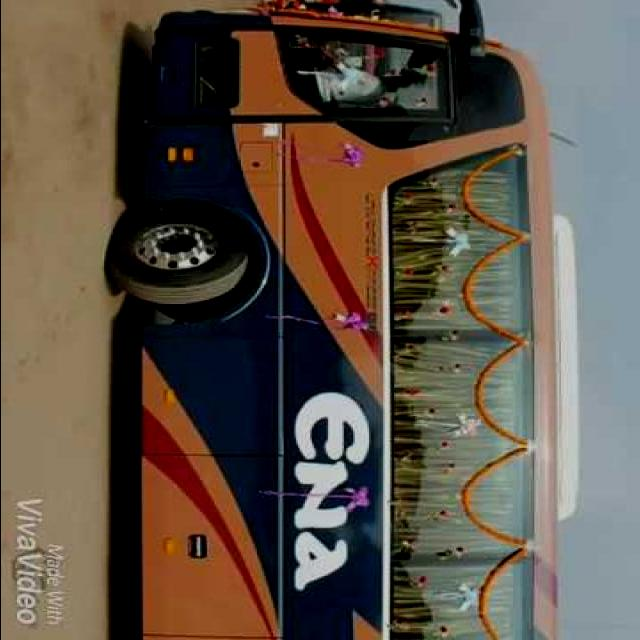bus: (105, 1, 579, 639)
